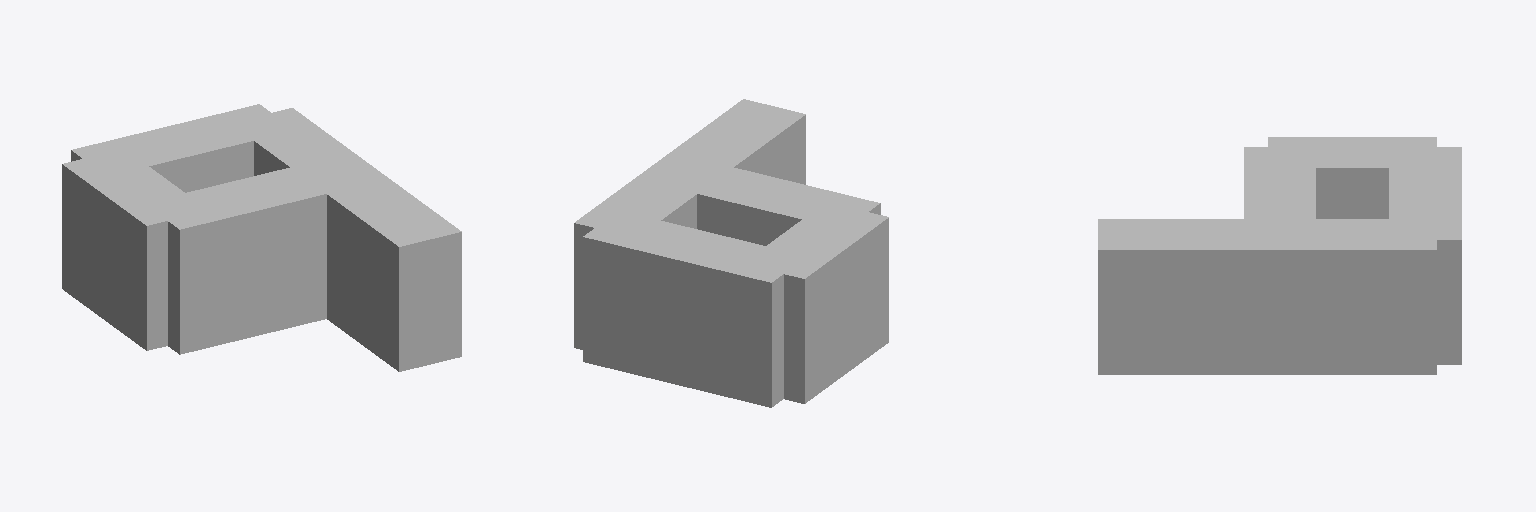
File: num_9.obj
The picture shows the model from 3 angles: view 1: azimuth 30°, elevation 25°; view 2: azimuth 150°, elevation 25°; view 3: azimuth 270°, elevation 25°; orthographic projection.
Visible parts, largest first — view 1: Text; view 2: Text; view 3: Text.
Boxes of the visible parts, box(x1,y1,x2,y2) form: Text: box(62, 104, 461, 371); Text: box(574, 99, 888, 407); Text: box(1098, 137, 1461, 374).
Size of the model in its own units: 0.5789 by 0.3 by 0.7895.